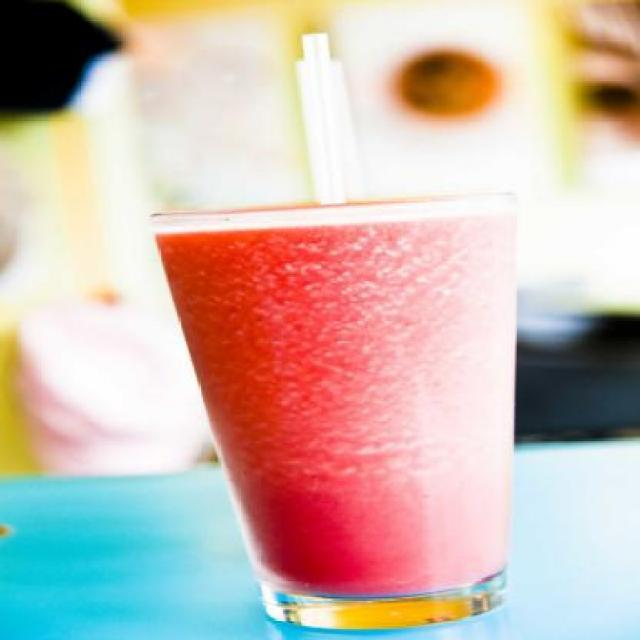Juice: (128, 223, 536, 632)
